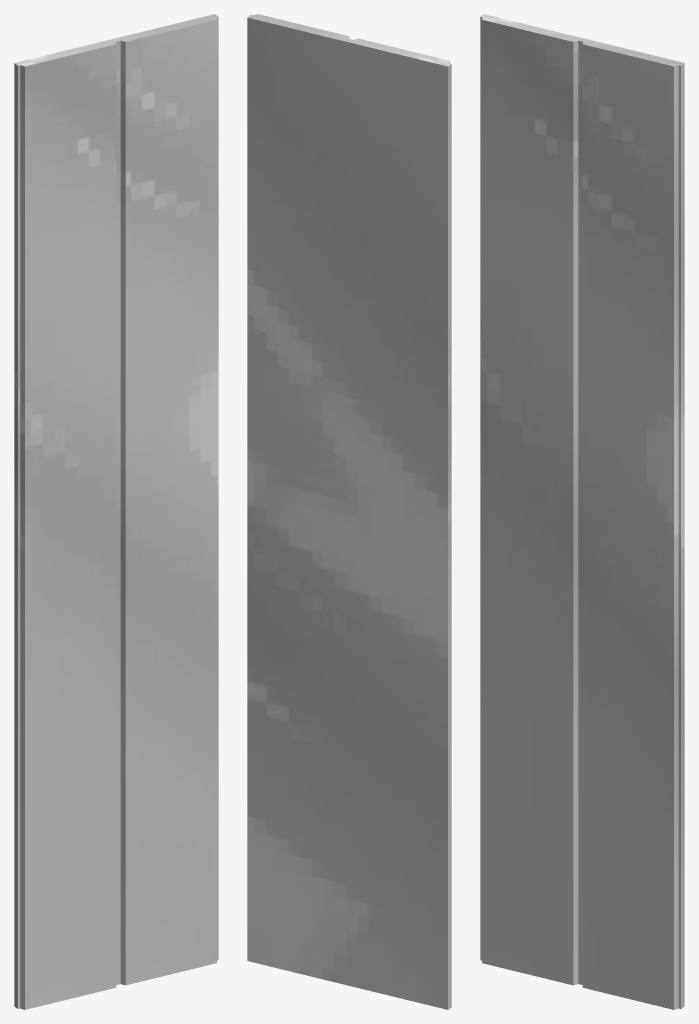
Rendered from TallWall.fbx.
3 views of the same model, side by side, from view 1: azimuth 30°, elevation 25°; view 2: azimuth 150°, elevation 25°; view 3: azimuth 330°, elevation 25° (orthographic).
Parts seen in each view (by area): view 1: pCube239; view 2: pCube239; view 3: pCube239.
Part boxes in pixels (x1,y1,x2,y2): pCube239: [14, 14, 218, 1009]; pCube239: [247, 14, 451, 1009]; pCube239: [480, 14, 684, 1009].
Size of the model in its own units: 249 by 1119 by 13.65.
Materials: 1 (1 with a texture image).
